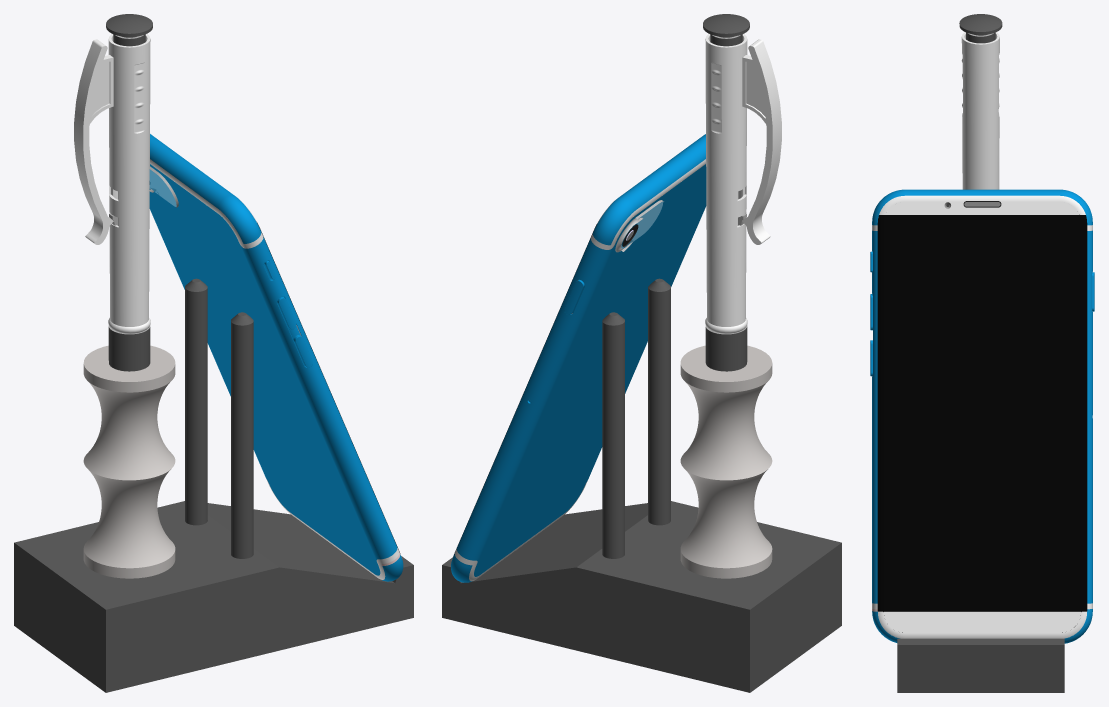
The model's file is config5.glb.
The picture shows the model from 3 angles, left to right: view 1: azimuth 30°, elevation 25°; view 2: azimuth 150°, elevation 25°; view 3: azimuth 270°, elevation 25°; orthographic projection. The views are drawn at different scales.
Visible parts, largest first — view 1: Socle-2, User Library-Iphone 8 v2-3, Porte stylo-1, SADC-SADC Pen_SADC 001-1, Module téléphone-1, Module téléphone-2, SADC-SADC Pen_SADC 002-2, SADC-SADC Pen_SADC 005-1; view 2: Socle-2, User Library-Iphone 8 v2-3, Porte stylo-1, SADC-SADC Pen_SADC 001-1, Module téléphone-1, Module téléphone-2, SADC-SADC Pen_SADC 002-2, SADC-SADC Pen_SADC 005-1; view 3: User Library-Iphone 8 v2-3, Socle-2, SADC-SADC Pen_SADC 001-1, SADC-SADC Pen_SADC 005-1.
Boxes of the visible parts, x1,y1,x2,y2 form: Socle-2: (14,501,413,692); User Library-Iphone 8 v2-3: (149,134,403,581); Porte stylo-1: (83,345,175,578); SADC-SADC Pen_SADC 001-1: (74,34,150,333); Module téléphone-1: (231,312,253,558); Module téléphone-2: (185,278,207,525); SADC-SADC Pen_SADC 002-2: (108,325,150,371); SADC-SADC Pen_SADC 005-1: (106,14,152,225); Socle-2: (442,501,841,692); User Library-Iphone 8 v2-3: (451,134,706,582); Porte stylo-1: (680,345,772,578); SADC-SADC Pen_SADC 001-1: (705,34,781,333); Module téléphone-1: (648,278,670,525); Module téléphone-2: (602,312,624,558); SADC-SADC Pen_SADC 002-2: (705,325,747,371); SADC-SADC Pen_SADC 005-1: (703,14,749,225); User Library-Iphone 8 v2-3: (870,189,1094,643); Socle-2: (897,638,1064,692); SADC-SADC Pen_SADC 001-1: (961,32,999,189); SADC-SADC Pen_SADC 005-1: (959,14,1002,43).
Bounding box in the file's own units: 0.0984 × 0.1899 × 0.068.
Materials: 42 (1 with a texture image).
